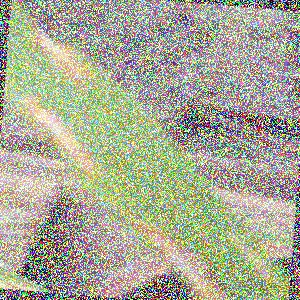Brown_Spot: (10, 89, 113, 184), (127, 214, 240, 300), (24, 9, 107, 86)
